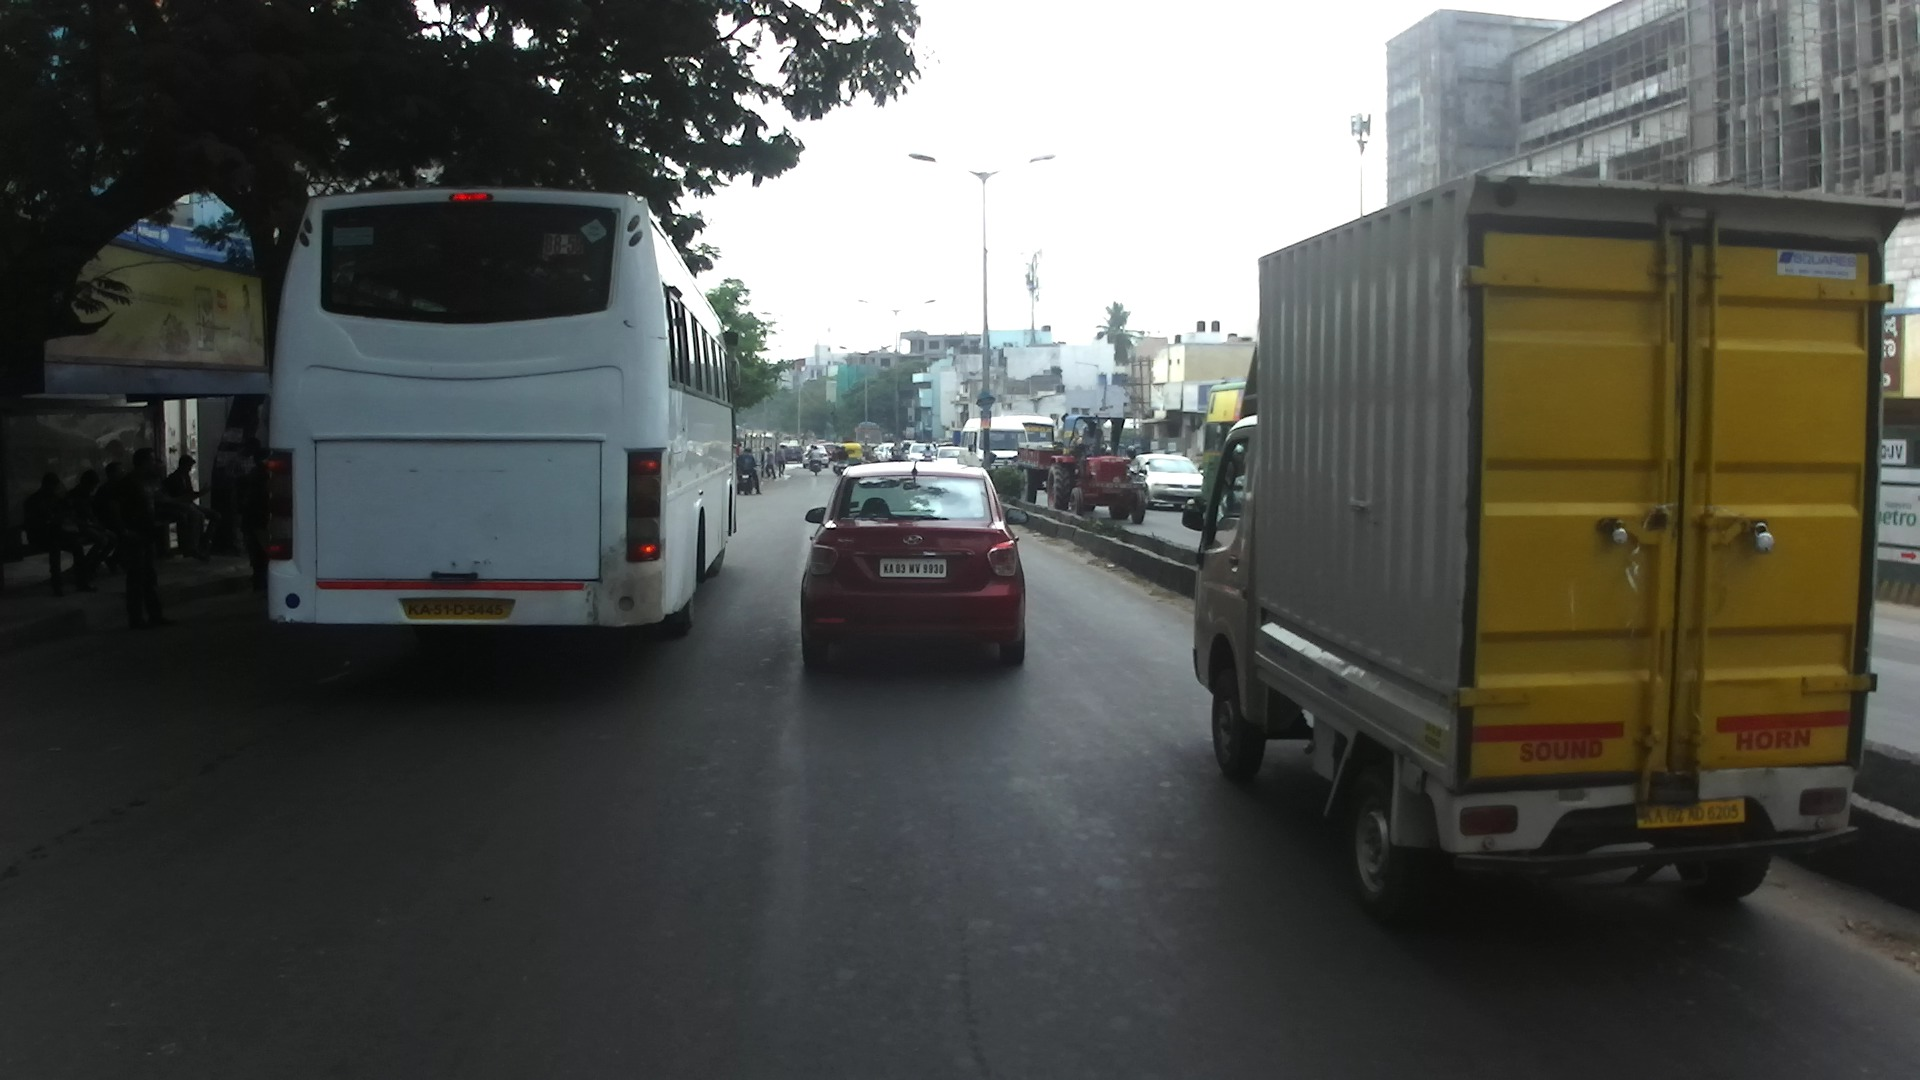autorickshaw: (840, 443, 863, 470)
bus: (269, 185, 743, 641), (1201, 382, 1257, 514), (959, 417, 1030, 472), (1006, 416, 1055, 457)
car: (800, 458, 1029, 667), (1134, 453, 1207, 509), (902, 443, 938, 466), (801, 443, 830, 468), (896, 438, 920, 462), (778, 440, 804, 463), (873, 442, 896, 463), (821, 443, 840, 459)
motorcycle: (1126, 461, 1149, 508), (739, 465, 760, 495), (837, 456, 850, 475), (809, 457, 821, 476), (831, 456, 841, 475)
person: (110, 447, 182, 630), (21, 469, 96, 594), (236, 449, 280, 592), (66, 470, 119, 575), (169, 455, 220, 551), (100, 462, 142, 572), (147, 460, 194, 553), (228, 439, 260, 519), (763, 446, 778, 479), (777, 445, 787, 477)
rider: (1123, 445, 1147, 493), (736, 447, 761, 491), (830, 445, 842, 469), (809, 446, 822, 471), (837, 445, 848, 471), (862, 442, 874, 462), (805, 445, 816, 462)
truck: (1181, 170, 1907, 921), (842, 422, 884, 460)
vehicle fallback: (1016, 413, 1146, 527), (1105, 442, 1126, 466), (933, 441, 955, 453), (763, 429, 774, 437), (814, 439, 828, 444), (773, 432, 781, 440), (736, 425, 742, 432), (784, 436, 792, 441)
